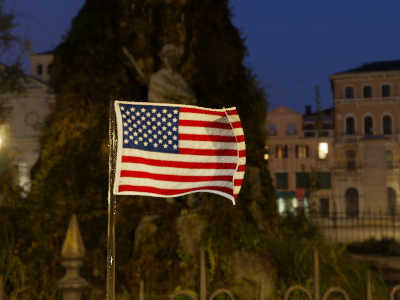America flag: (113, 100, 249, 206)
